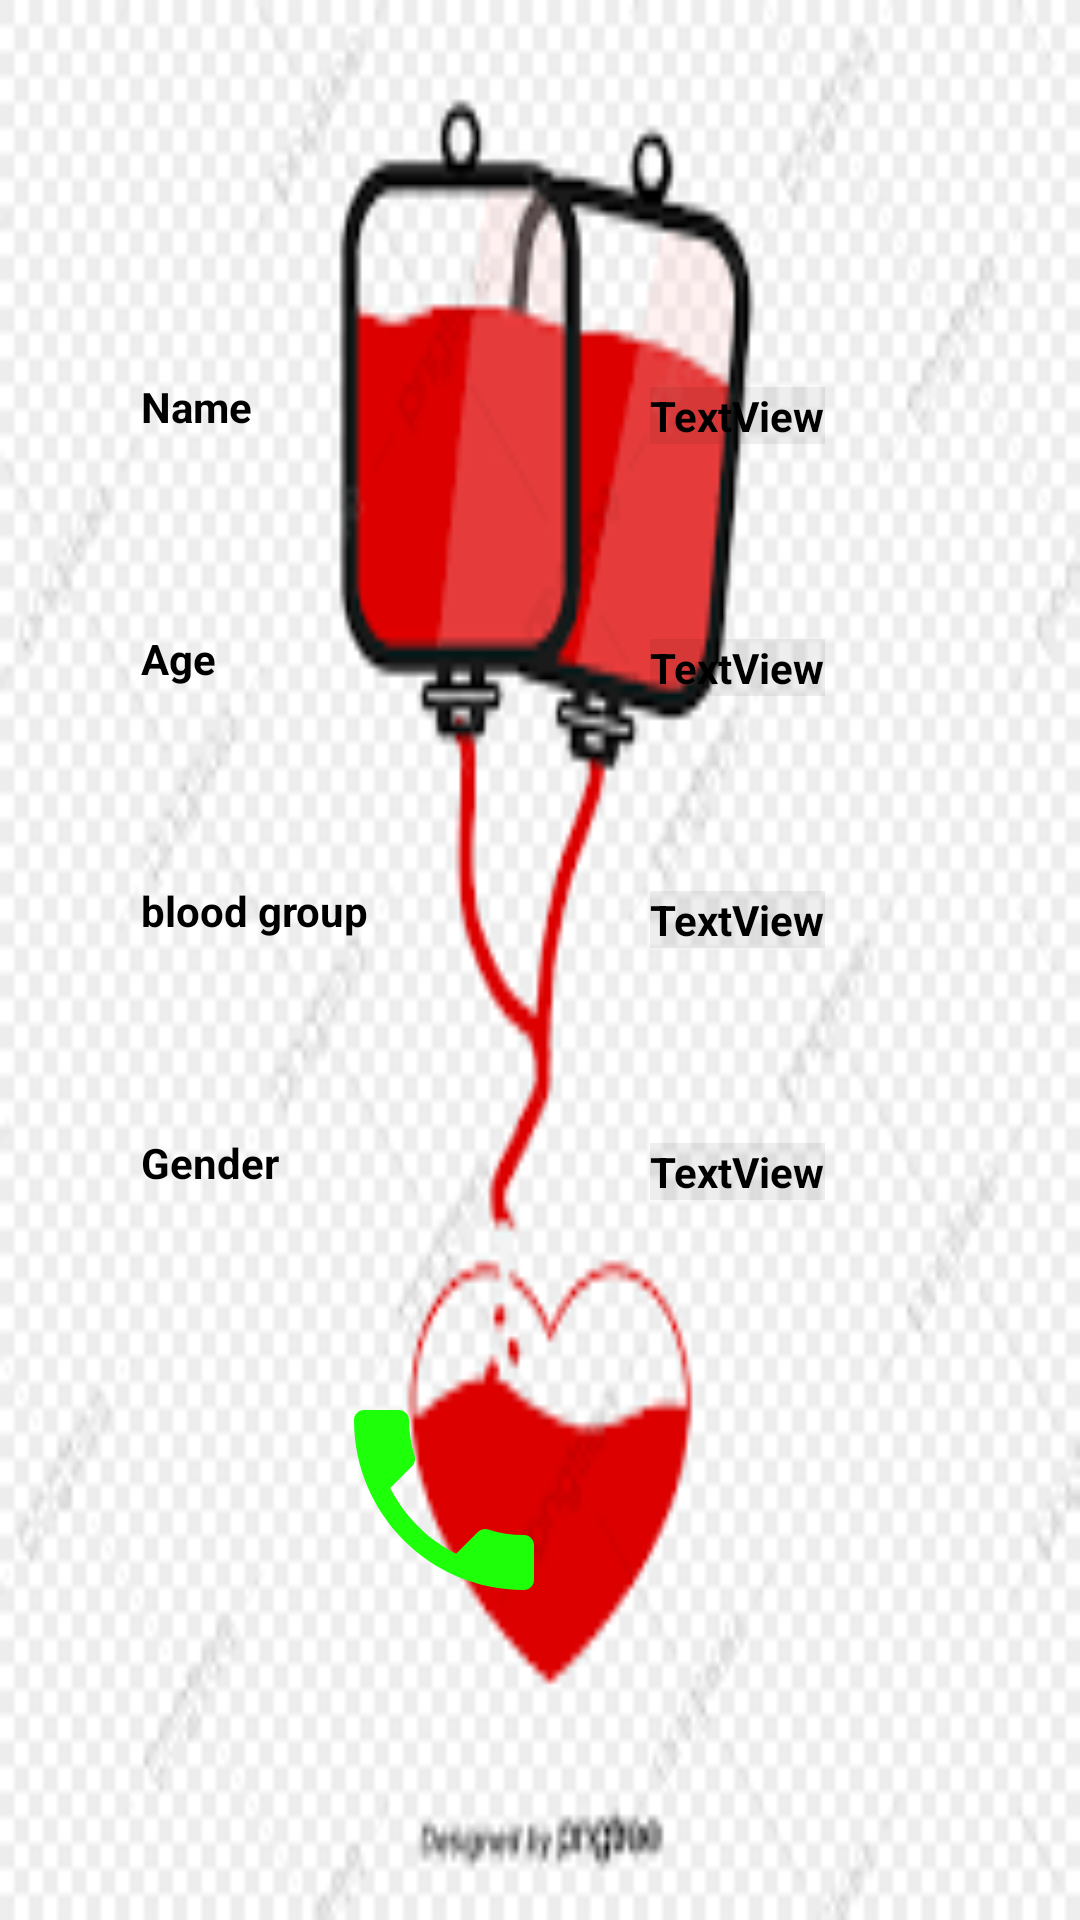

Icons on this 1080w x 1920h Android screen, each with its box as BBox(x1, y1, x2, y2):
call: BBox(354, 1380, 564, 1620)
